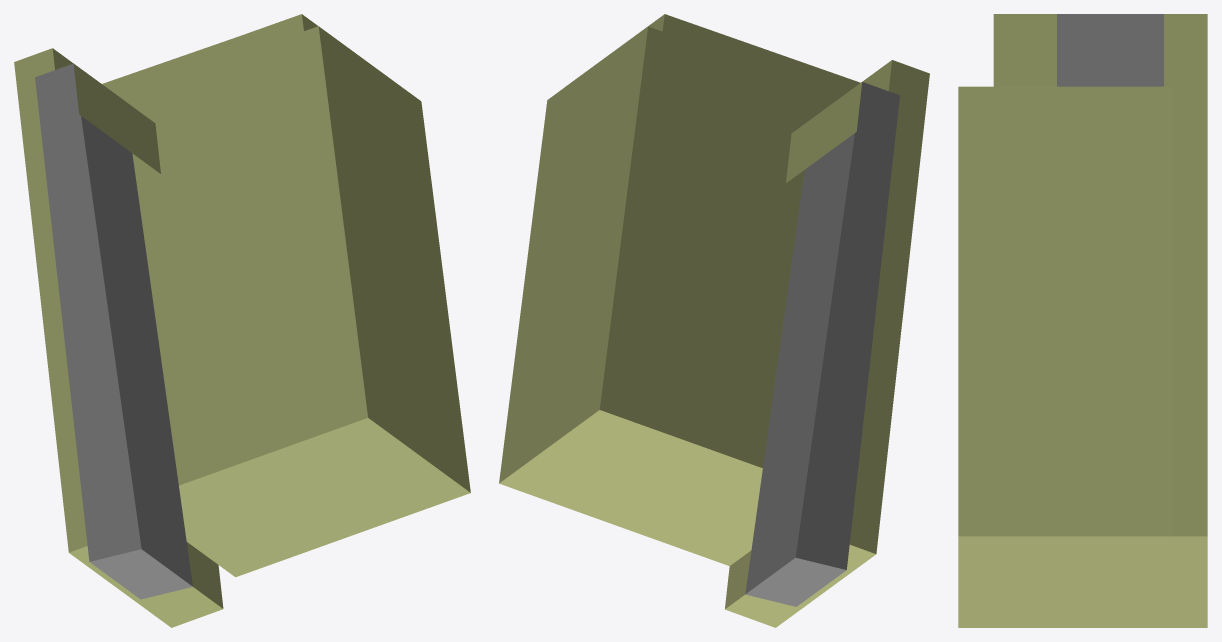
3 views of the same model, side by side, from view 1: azimuth 30°, elevation 25°; view 2: azimuth 150°, elevation 25°; view 3: azimuth 270°, elevation 25° (orthographic). The views are drawn at different scales.
Parts seen in each view (by area): view 1: 0_2_3_3_3_0_2_3_1_1; view 2: 0_2_3_3_3_0_2_3_1_1; view 3: 0_2_3_3_3_0_2_3_1_1.
Boxes of the visible parts, x1,y1,x2,y2 form: 0_2_3_3_3_0_2_3_1_1: (14, 14, 470, 627); 0_2_3_3_3_0_2_3_1_1: (499, 14, 929, 627); 0_2_3_3_3_0_2_3_1_1: (958, 14, 1207, 627).
Size of the model in its own units: 11.36 by 16.38 by 6.99.
